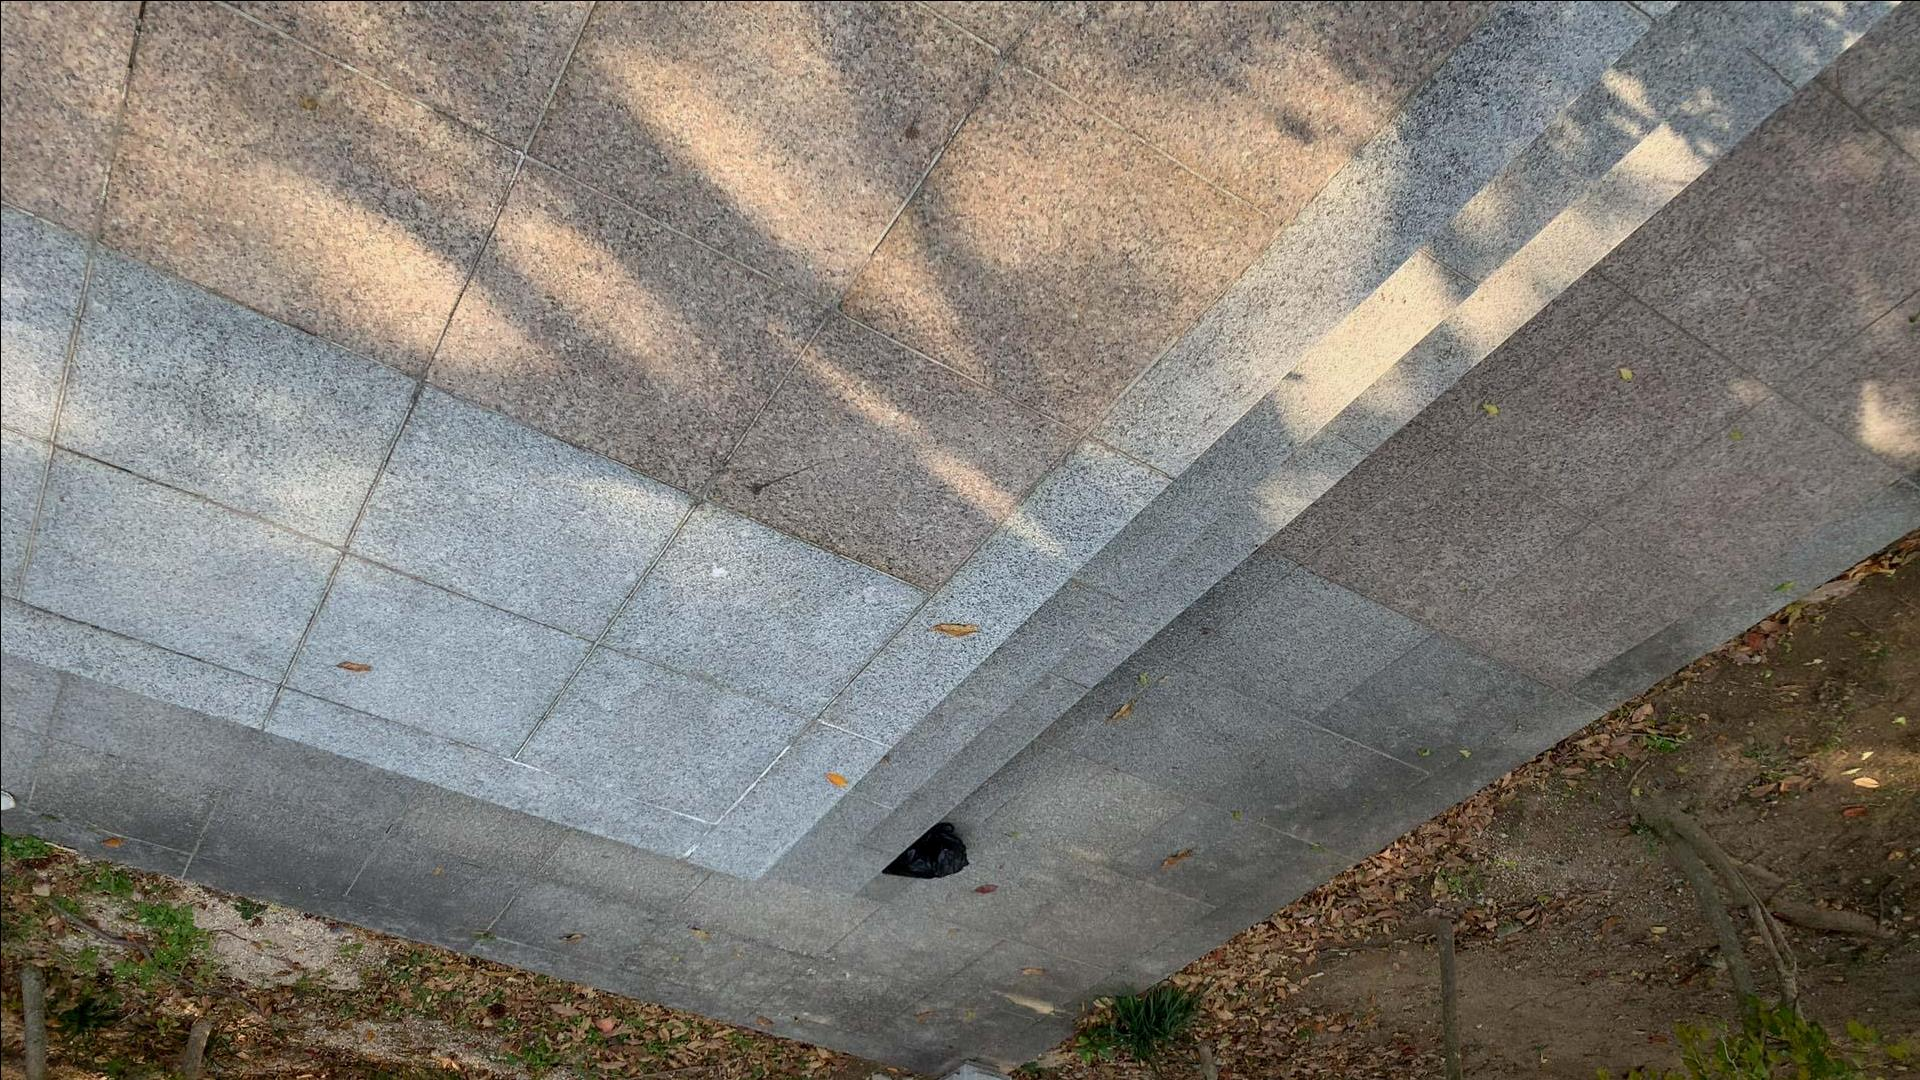black_bag: (880, 816, 975, 885)
